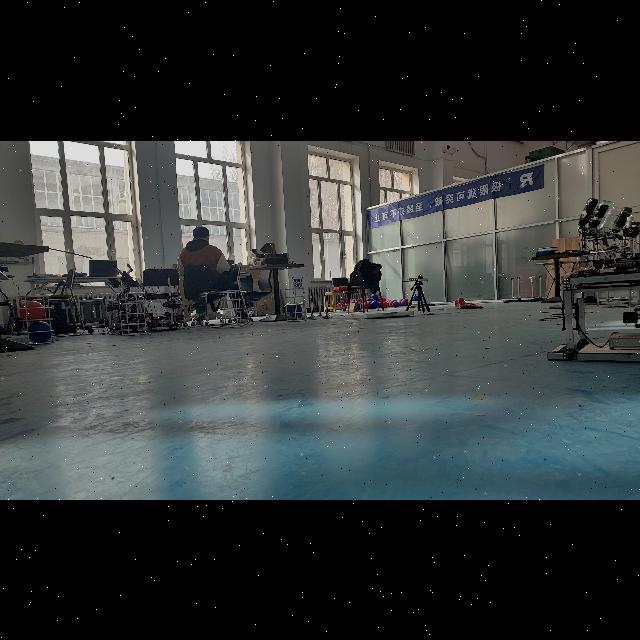B: (26, 322, 52, 342)
R: (20, 300, 46, 320)
S: (16, 292, 56, 348), (115, 288, 148, 340), (217, 286, 245, 330), (283, 284, 309, 324)
